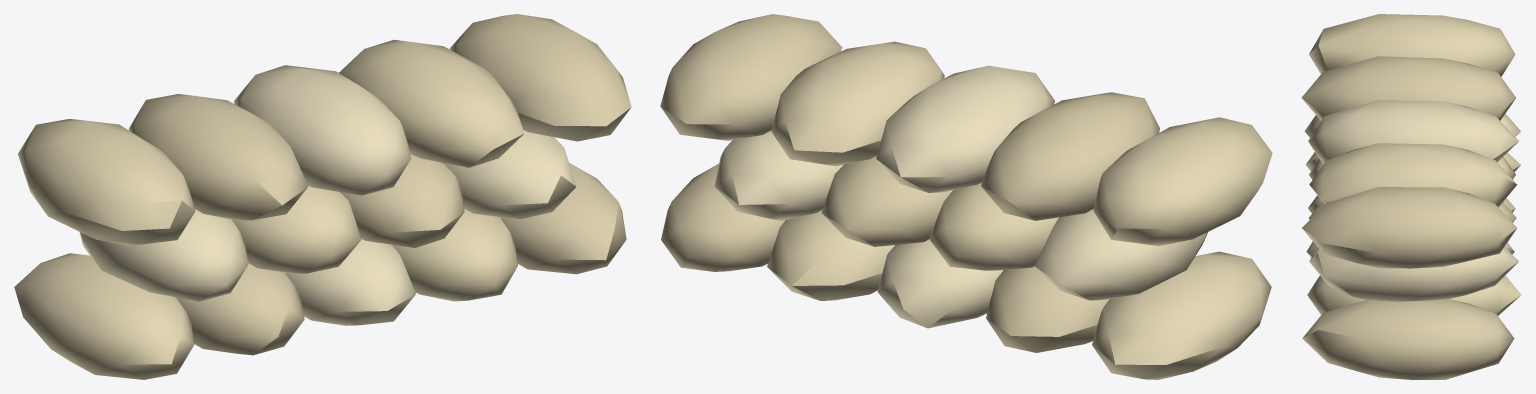
The model's file is prop_sandbag.glb.
3 views of the same model, side by side, from view 1: azimuth 30°, elevation 25°; view 2: azimuth 150°, elevation 25°; view 3: azimuth 270°, elevation 25° (orthographic). The views are drawn at different scales.
Parts seen in each view (by area): view 1: sandbag; view 2: sandbag; view 3: sandbag.
Part boxes in pixels (x1=…): sandbag: x1=14, y1=14, x2=631, y2=379; sandbag: x1=660, y1=14, x2=1272, y2=379; sandbag: x1=1301, y1=14, x2=1521, y2=379.
Bounding box in the file's own units: 74.9 × 28.39 × 31.08.
